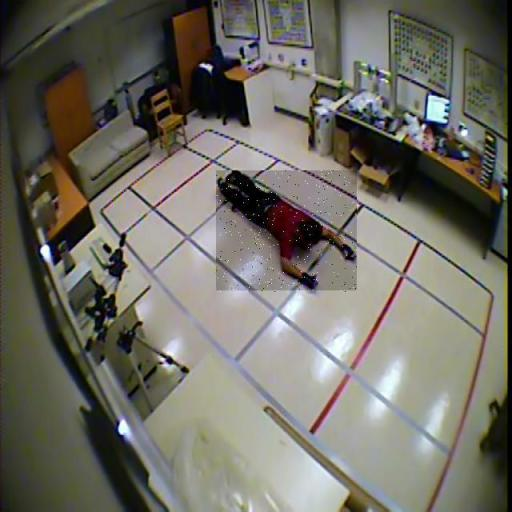Fall: (216, 171, 357, 293)
